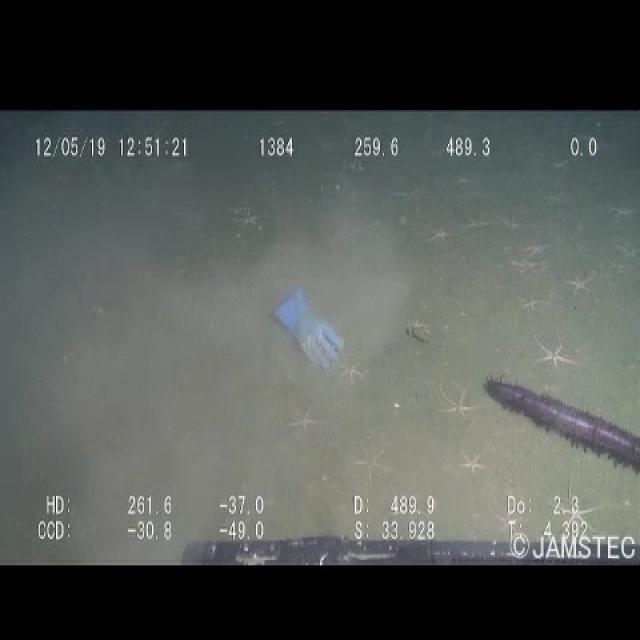plastic: (478, 370, 638, 480), (267, 285, 344, 375)
